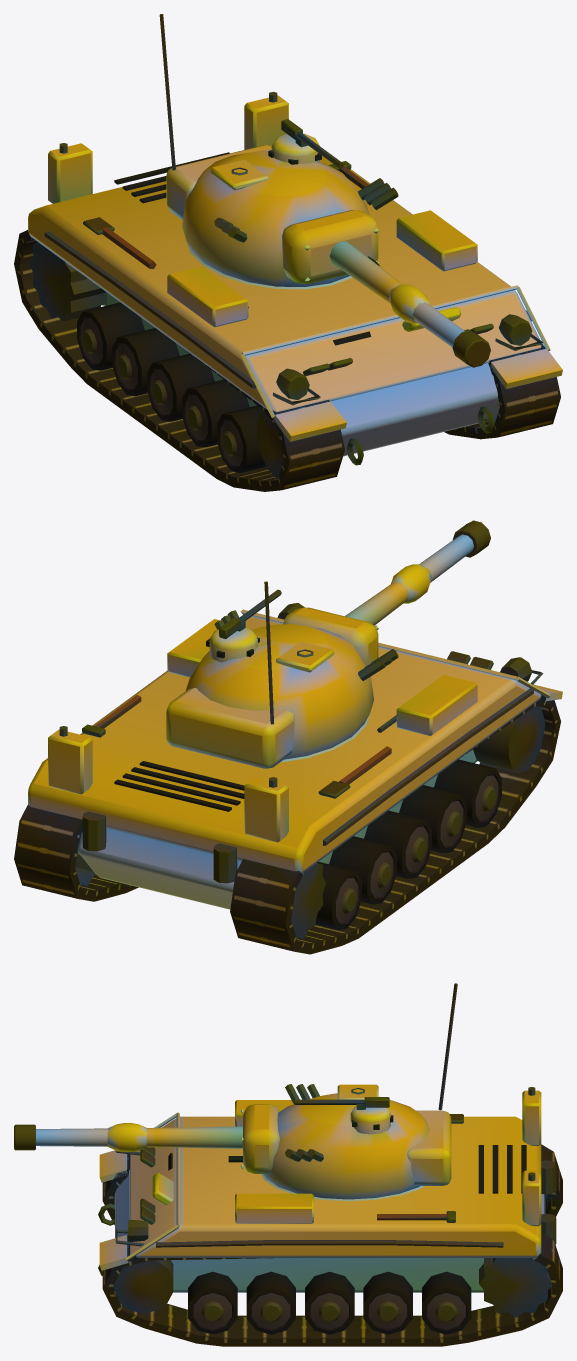
The model's file is tank.glb.
The picture shows the model from 3 angles, top to bottom: view 1: azimuth 30°, elevation 25°; view 2: azimuth 150°, elevation 25°; view 3: azimuth 270°, elevation 25°; orthographic projection. The views are drawn at different scales.
Visible parts, largest first — view 1: hull, turret, tracks, barrel; view 2: hull, turret, tracks, barrel; view 3: hull, turret, tracks, barrel.
Boxes of the visible parts, bbox=[...] form: hull: bbox=[28, 91, 562, 477]; turret: bbox=[159, 14, 398, 289]; tracks: bbox=[14, 230, 560, 491]; barrel: bbox=[329, 241, 490, 367]; hull: bbox=[28, 603, 562, 938]; turret: bbox=[166, 581, 398, 768]; tracks: bbox=[14, 694, 560, 954]; barrel: bbox=[345, 520, 490, 625]; hull: bbox=[98, 1087, 556, 1334]; turret: bbox=[228, 983, 457, 1201]; tracks: bbox=[102, 1144, 562, 1346]; barrel: bbox=[14, 1123, 242, 1151].
Bounding box in the file's own units: 0.1743 × 0.2001 × 0.3477.
5 materials, 1 textured.
